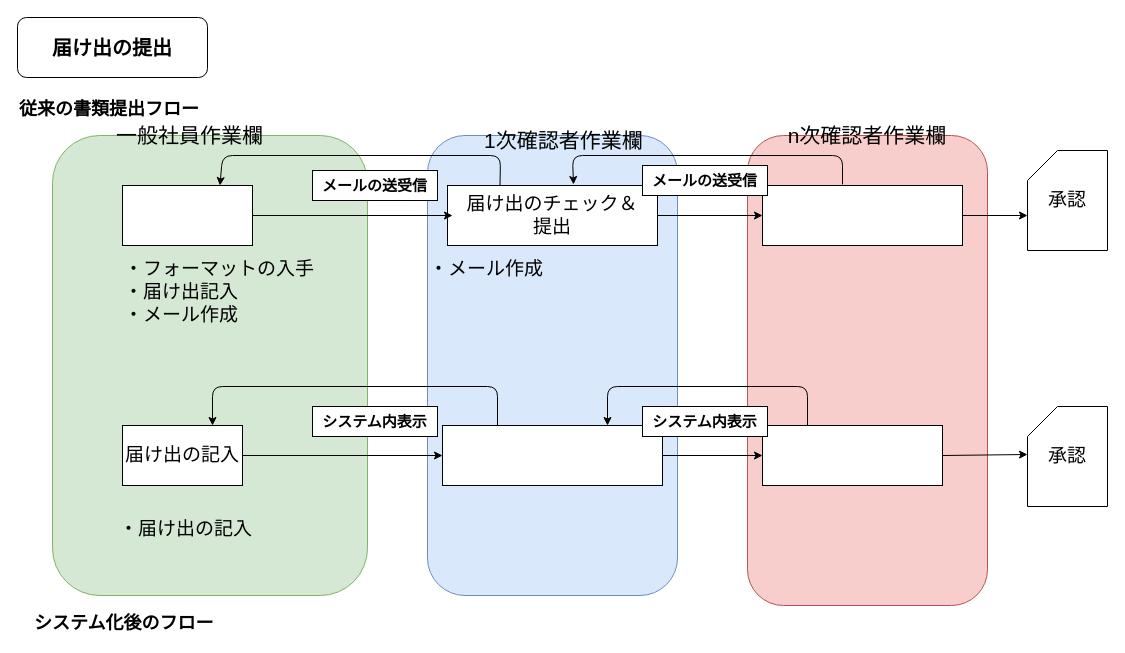
Image size: 1125x653. Some labels were removed from this diagram. Here are the shapes that lost their labels. From the top down, the centre of each, then its label:
At point (187, 215): "届け出の作成".
At point (862, 215): "提出書類のチェック＆ 提出".
At point (552, 455): "届け出のチェック".
At point (852, 455): "提出書類のチェック".
